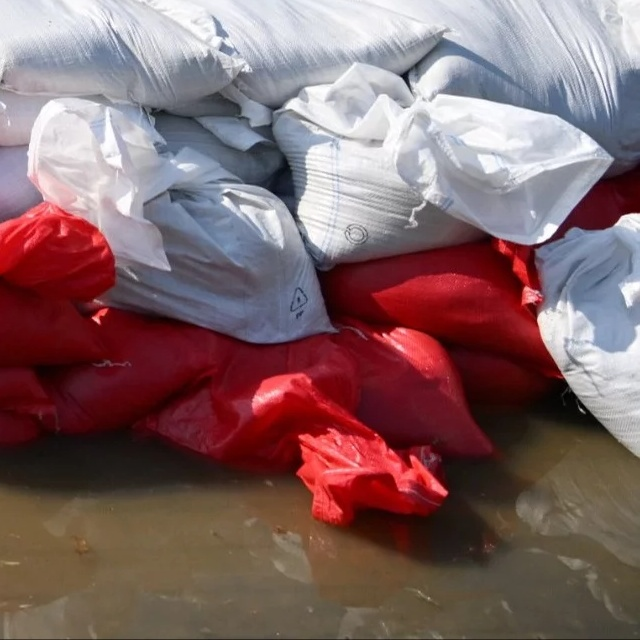sandbag: (29, 100, 331, 344), (273, 64, 610, 269), (144, 336, 447, 525), (371, 0, 640, 171), (141, 0, 440, 108), (322, 243, 558, 378), (0, 0, 239, 109), (539, 215, 640, 458), (333, 315, 491, 457), (49, 311, 217, 430), (0, 203, 116, 367)
